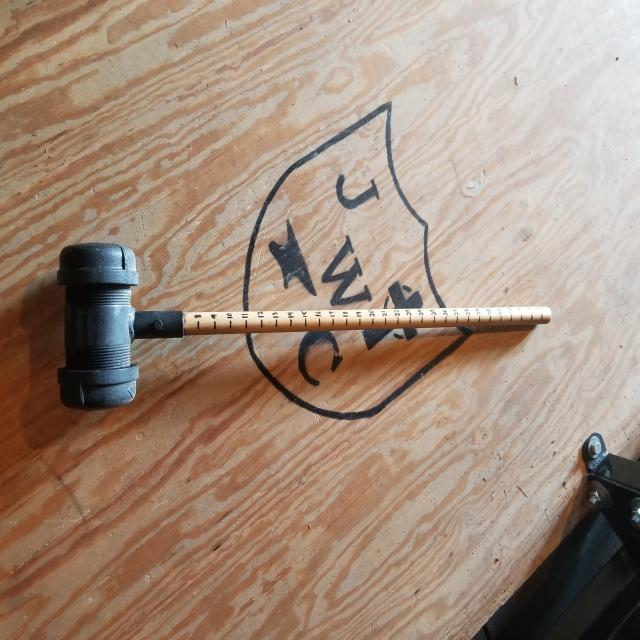hammer: (29, 226, 561, 412)
